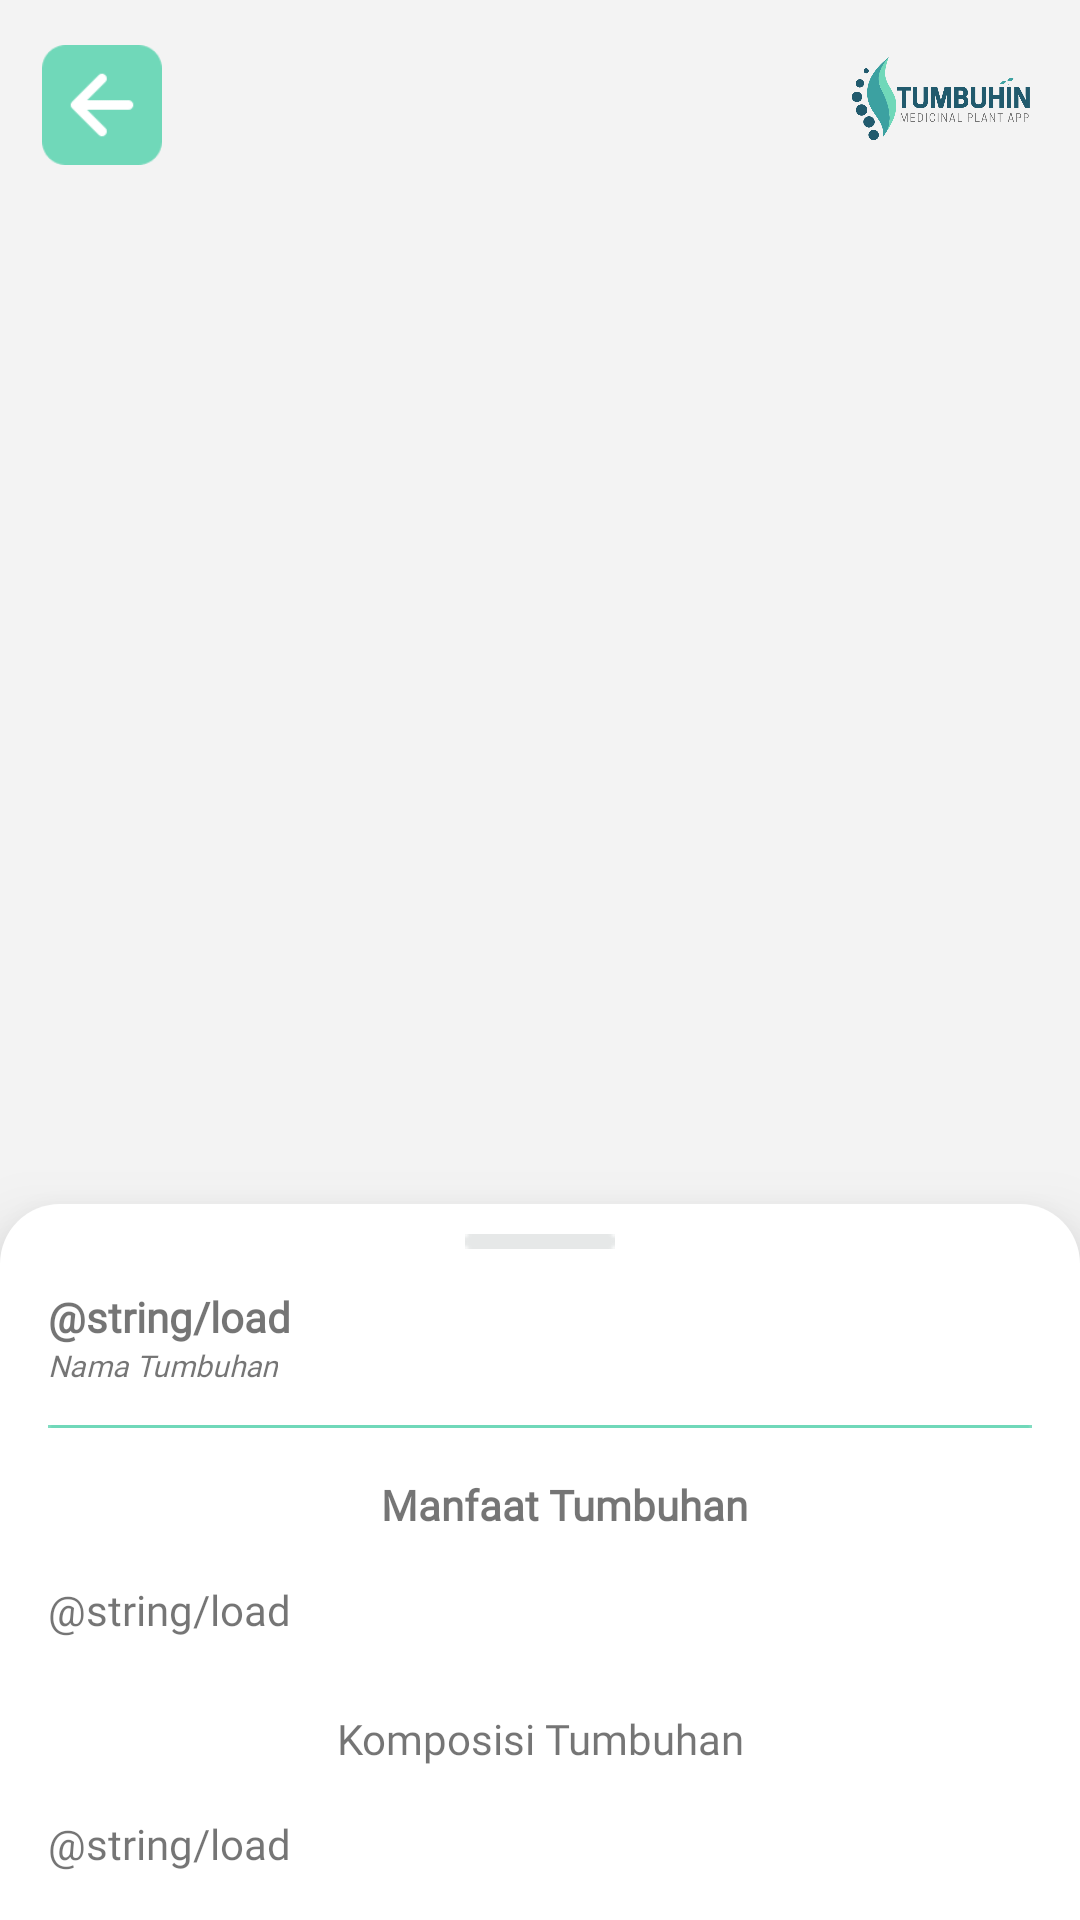

Named icons in this screenshot (1080*1920) and their bounding boxes, box(x1, y1, x2, y2):
Back Button: box(42, 45, 162, 165)
